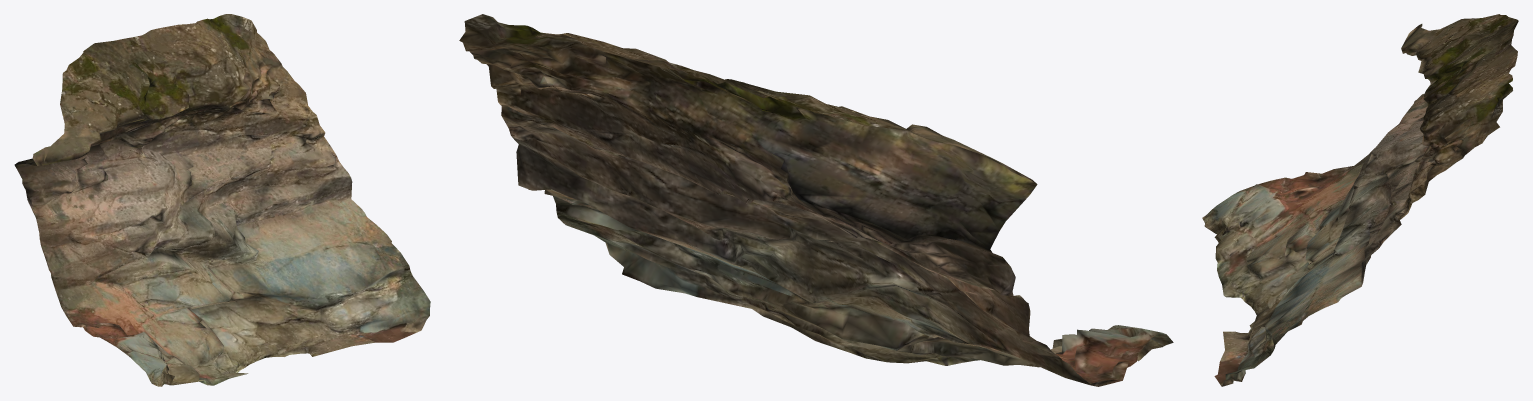
The model's file is rock_face_01_lod1.glb.
The picture shows the model from 3 angles, left to right: view 1: azimuth 30°, elevation 25°; view 2: azimuth 150°, elevation 25°; view 3: azimuth 270°, elevation 25°; orthographic projection. The views are drawn at different scales.
Parts seen in each view (by area): view 1: rock_face_01; view 2: rock_face_01; view 3: rock_face_01.
Boxes of the visible parts, <box> form: rock_face_01: <box>14,14,430,386</box>; rock_face_01: <box>459,14,1173,386</box>; rock_face_01: <box>1202,14,1518,386</box>.
Bounding box in the file's own units: 4.94 × 3.56 × 3.82.
Materials: 1 (1 with a texture image).
